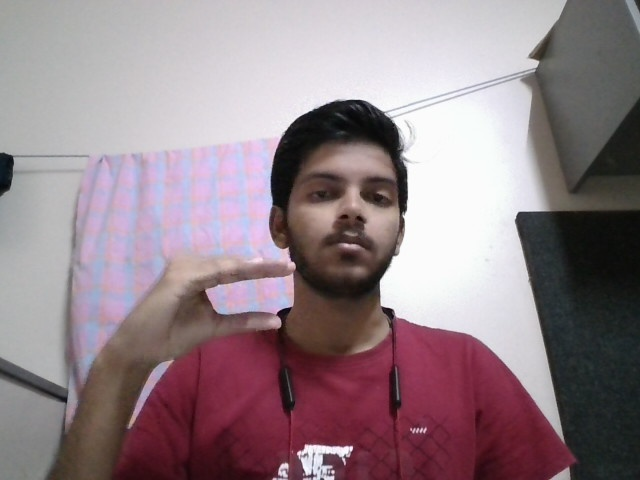Yes: (121, 242, 306, 371)
